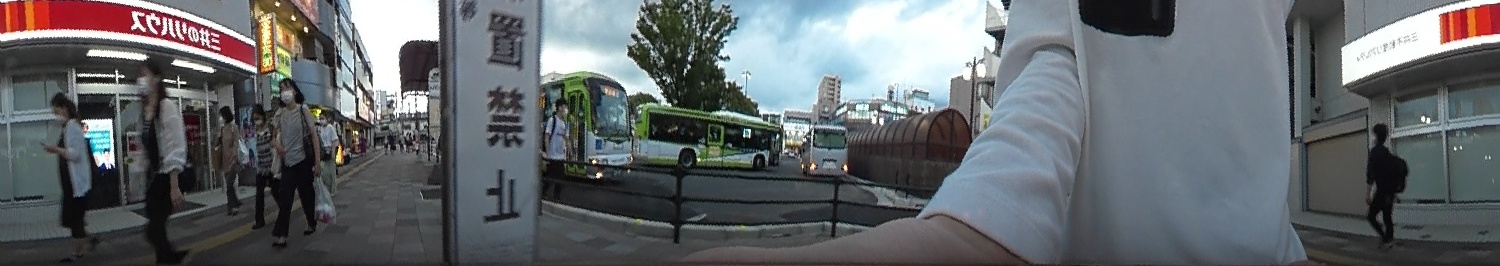difficult_person: (383, 123, 397, 155), (357, 129, 370, 158), (403, 126, 415, 153)
person: (121, 53, 196, 266), (35, 86, 109, 260), (270, 71, 322, 252), (1354, 115, 1410, 251), (535, 89, 573, 206), (210, 102, 248, 215), (246, 98, 273, 229), (315, 106, 345, 201)
